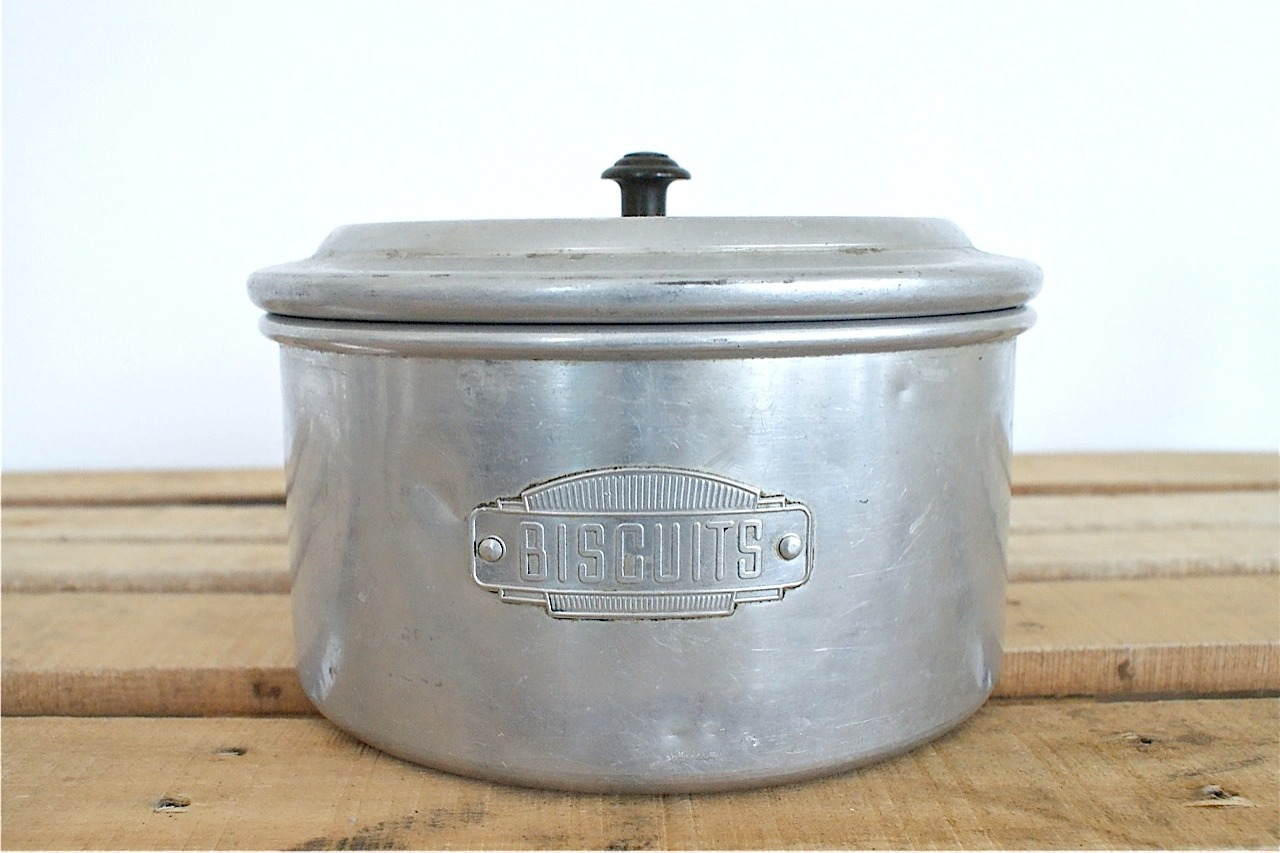metal: (246, 149, 1044, 794)
